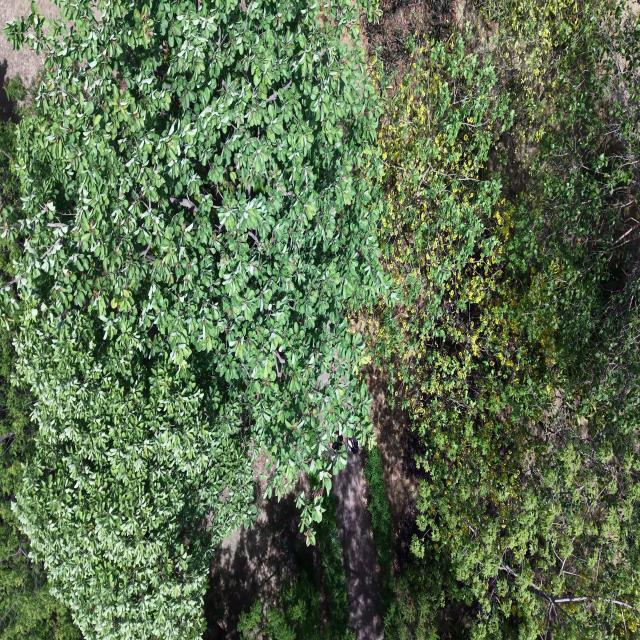DRY_AREA: (204, 455, 321, 639), (205, 465, 321, 639), (205, 468, 319, 639), (205, 479, 321, 639), (205, 470, 314, 639), (205, 491, 321, 639), (205, 490, 317, 639), (206, 492, 319, 639), (206, 497, 319, 639), (206, 498, 319, 639), (367, 367, 428, 577), (367, 366, 428, 575), (206, 503, 299, 639), (366, 365, 420, 575), (367, 368, 420, 572), (361, 0, 497, 77), (334, 454, 383, 639), (361, 0, 478, 77), (367, 368, 417, 525), (361, 0, 474, 68), (361, 0, 442, 71), (0, 0, 43, 118), (0, 0, 42, 117), (361, 0, 432, 60), (0, 0, 42, 86), (0, 33, 42, 84), (0, 62, 13, 121), (629, 0, 639, 15)
VEGETATION_TREE: (0, 0, 639, 639), (2, 0, 383, 639), (373, 2, 639, 638), (0, 324, 78, 639), (238, 496, 354, 639), (316, 496, 354, 639), (364, 447, 395, 615)
